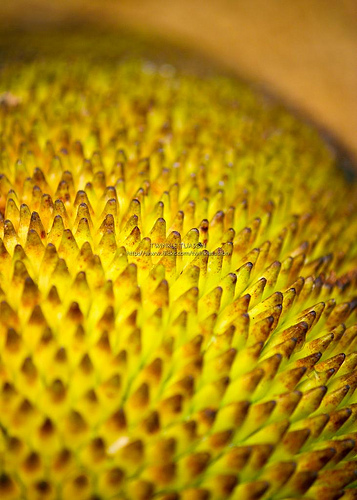jackfruit: (1, 35, 355, 498)
